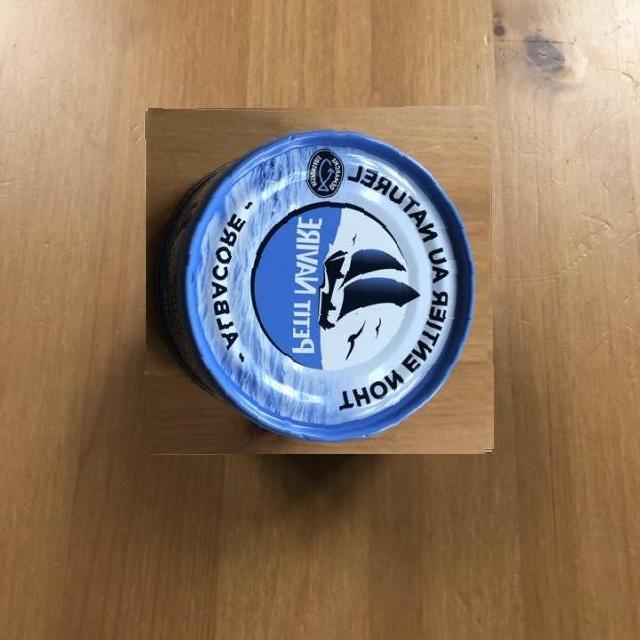recyclable: (146, 107, 493, 454)
